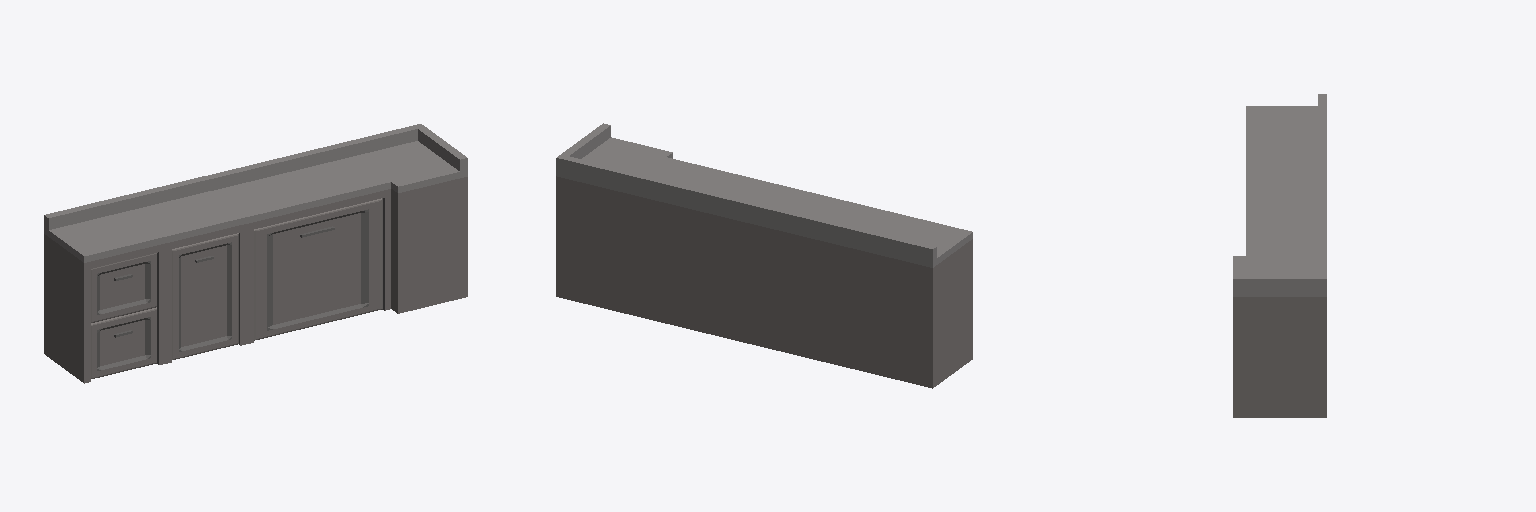
3 renders of one model, left to right at view 1: azimuth 30°, elevation 25°; view 2: azimuth 150°, elevation 25°; view 3: azimuth 270°, elevation 25°, orthographic.
Visible parts, largest first — view 1: Mesa_3, Mesa_1, Mesa_2, Esquinero; view 2: Mesa_3, Mesa_1, Mesa_2, Esquinero; view 3: Esquinero, Mesa_3, Mesa_1, Mesa_2.
Part boxes in pixels (bbox=[...]): Mesa_3: bbox=[208, 141, 390, 343]; Mesa_1: bbox=[44, 195, 165, 383]; Mesa_2: bbox=[126, 176, 246, 363]; Esquinero: bbox=[351, 124, 467, 313]; Mesa_3: bbox=[626, 157, 809, 348]; Mesa_1: bbox=[852, 212, 972, 388]; Mesa_2: bbox=[770, 192, 890, 368]; Esquinero: bbox=[556, 123, 672, 313]; Esquinero: bbox=[1233, 244, 1326, 417]; Mesa_3: bbox=[1246, 174, 1326, 255]; Mesa_1: bbox=[1246, 94, 1326, 145]; Mesa_2: bbox=[1246, 134, 1326, 185].
Size of the model in its own units: 13.92 by 4.92 by 3.01.
Materials: 4 (4 with a texture image).